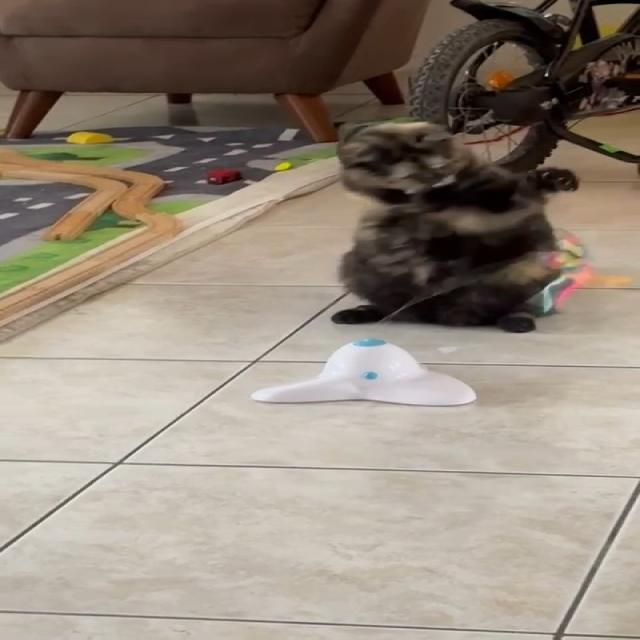authorized: (330, 118, 578, 333)
